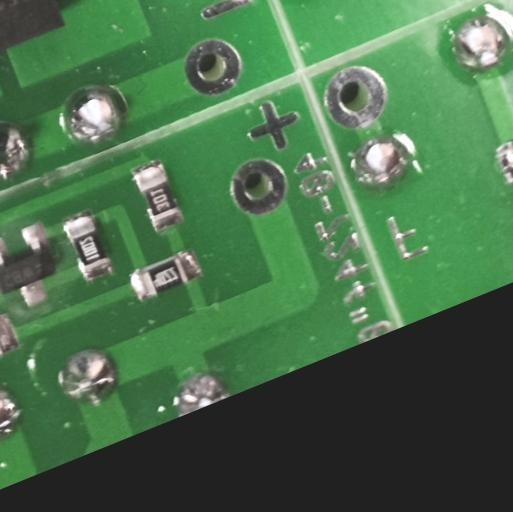chip-resistor: (53, 203, 118, 288), (124, 154, 187, 234), (123, 244, 202, 306), (484, 102, 513, 190)
transistor: (0, 215, 69, 319)
